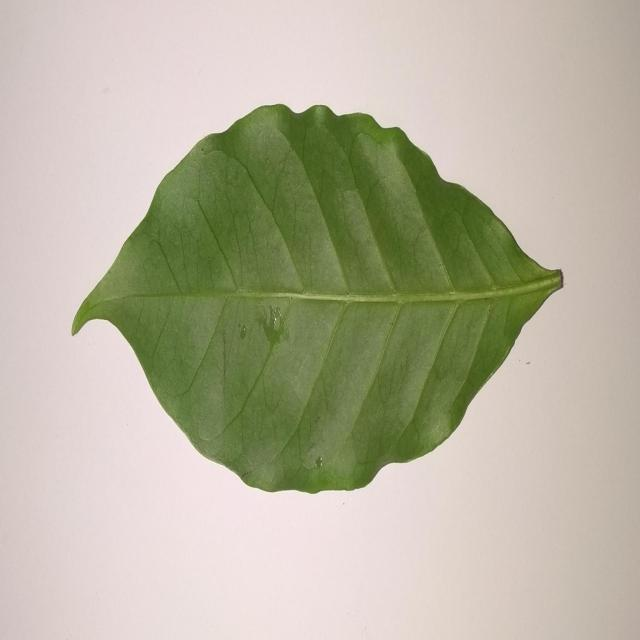Sanas: (70, 104, 565, 497)
